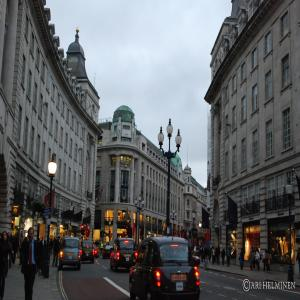Vehicle-registration-plate: (173, 276, 187, 282), (125, 255, 131, 258), (68, 254, 74, 256)
